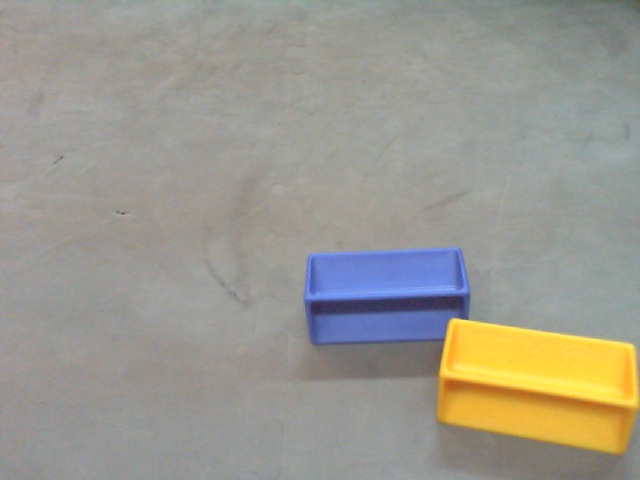BlueSample: (302, 248, 485, 344)
YellowSample: (434, 316, 639, 463)
